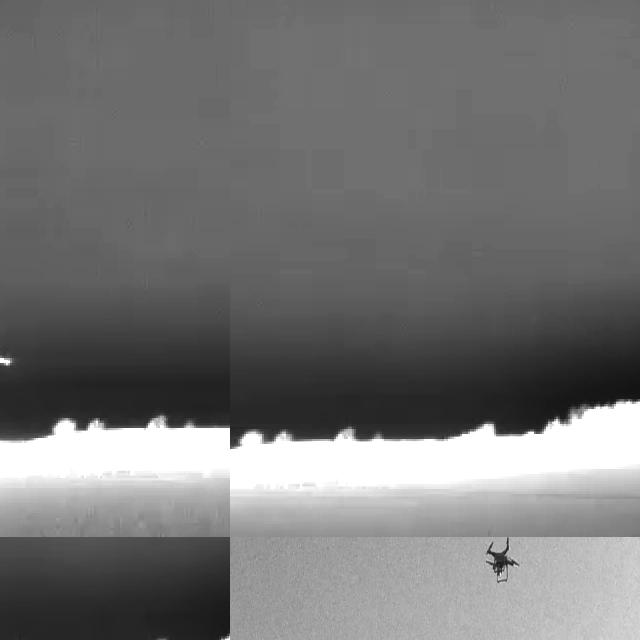1: (0, 345, 21, 380)
drone: (483, 537, 519, 587)
